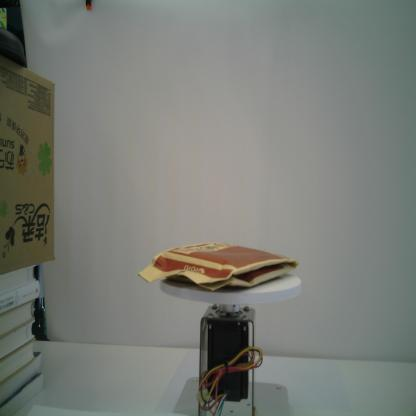Dried Food: (137, 238, 302, 294)
